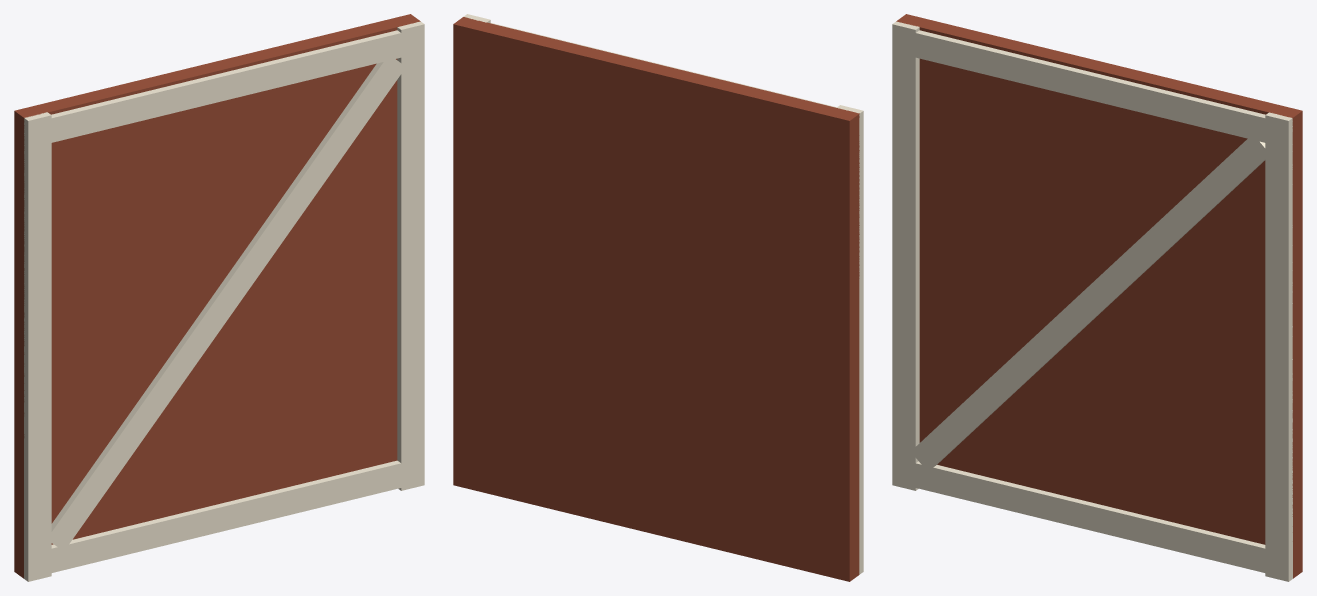
Rendered from barn_door.glb.
3 views of the same model, side by side, from view 1: azimuth 30°, elevation 25°; view 2: azimuth 150°, elevation 25°; view 3: azimuth 330°, elevation 25° (orthographic).
Parts seen in each view (by area): view 1: barn_door; view 2: barn_door; view 3: barn_door.
Part boxes in pixels (bbox=[...]): barn_door: bbox=[14, 14, 424, 581]; barn_door: bbox=[453, 14, 863, 581]; barn_door: bbox=[892, 14, 1302, 581].
Size of the model in its own units: 2.7 by 3 by 0.165.
